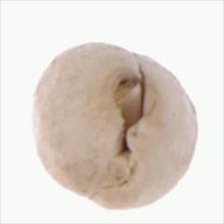L3: (107, 69, 155, 154)
L4: (33, 41, 198, 209)
